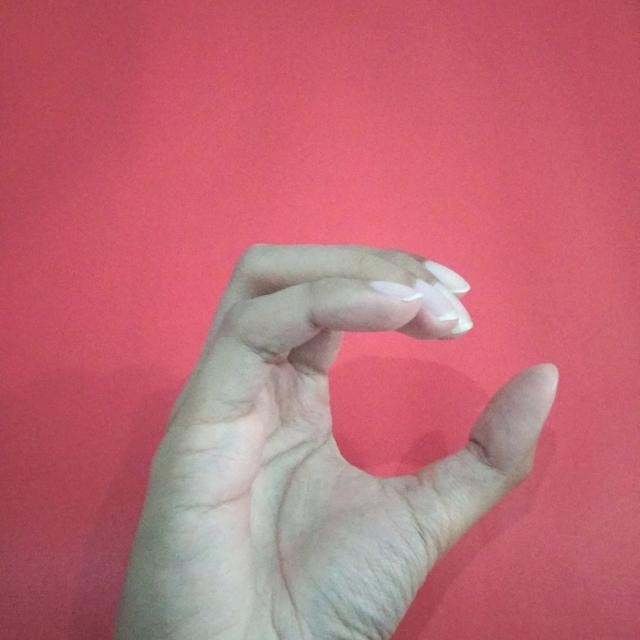C: (111, 238, 564, 640)
